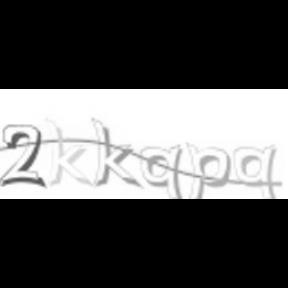2: (0, 120, 48, 190)
k: (38, 110, 92, 188), (88, 114, 140, 190)
p: (184, 139, 232, 199)
q: (135, 144, 184, 200), (230, 143, 278, 199)
